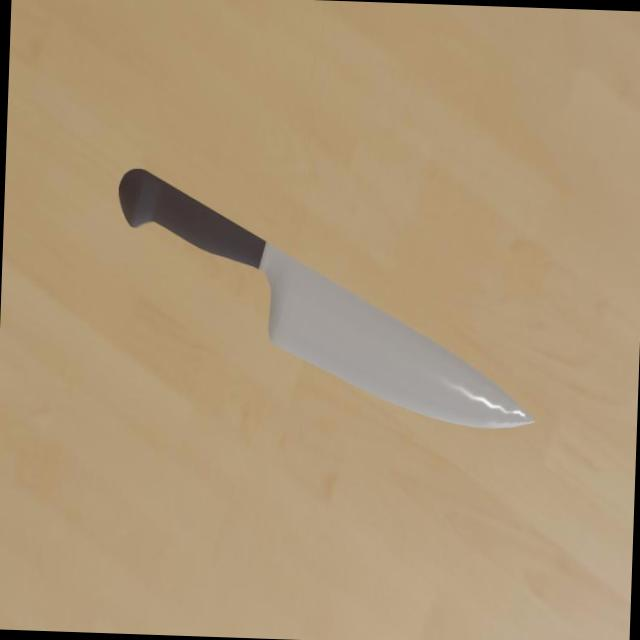knife: (117, 168, 268, 271)
